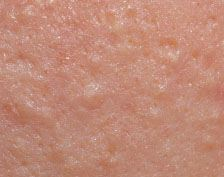jerawat: (1, 1, 224, 177)
